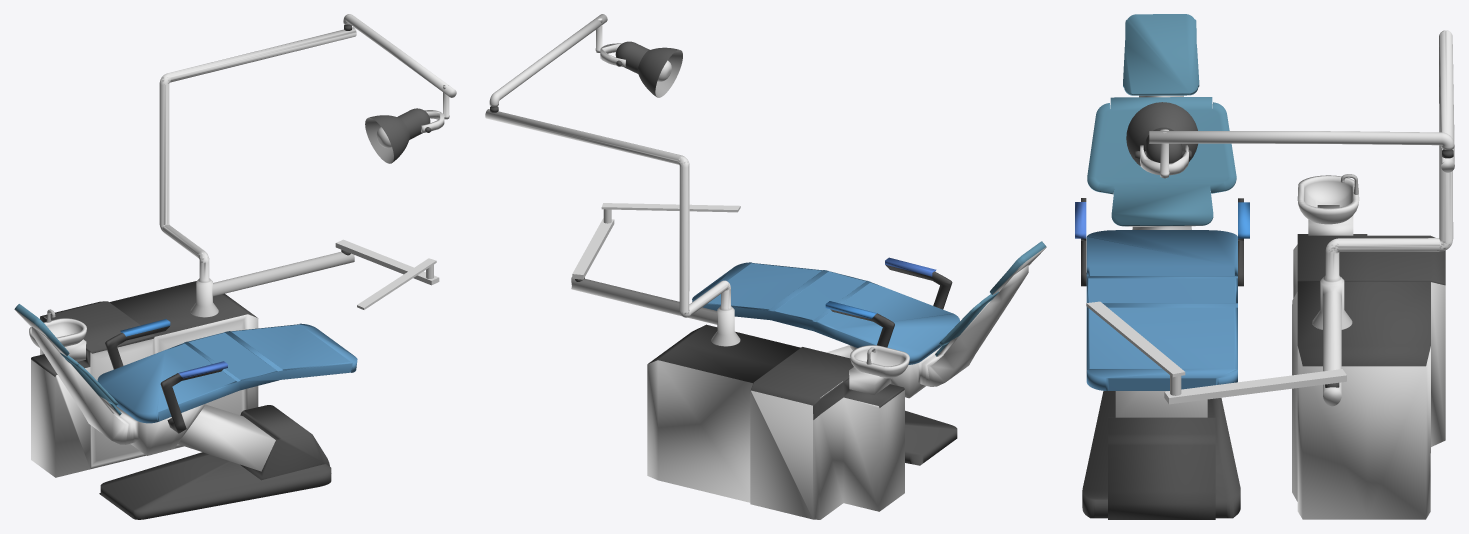
The model's file is KursiDentalRevisi2.fbx.
3 views of the same model, side by side, from view 1: azimuth 30°, elevation 25°; view 2: azimuth 150°, elevation 25°; view 3: azimuth 270°, elevation 25° (orthographic). The views are drawn at different scales.
Visible parts, largest first — view 1: KusiDental; view 2: KusiDental; view 3: KusiDental.
Part boxes in pixels (<box>): KusiDental: <box>14,14,456,519</box>; KusiDental: <box>485,14,1046,519</box>; KusiDental: <box>1075,14,1454,519</box>.
Bounding box in the file's own units: 273 × 207 × 147.
